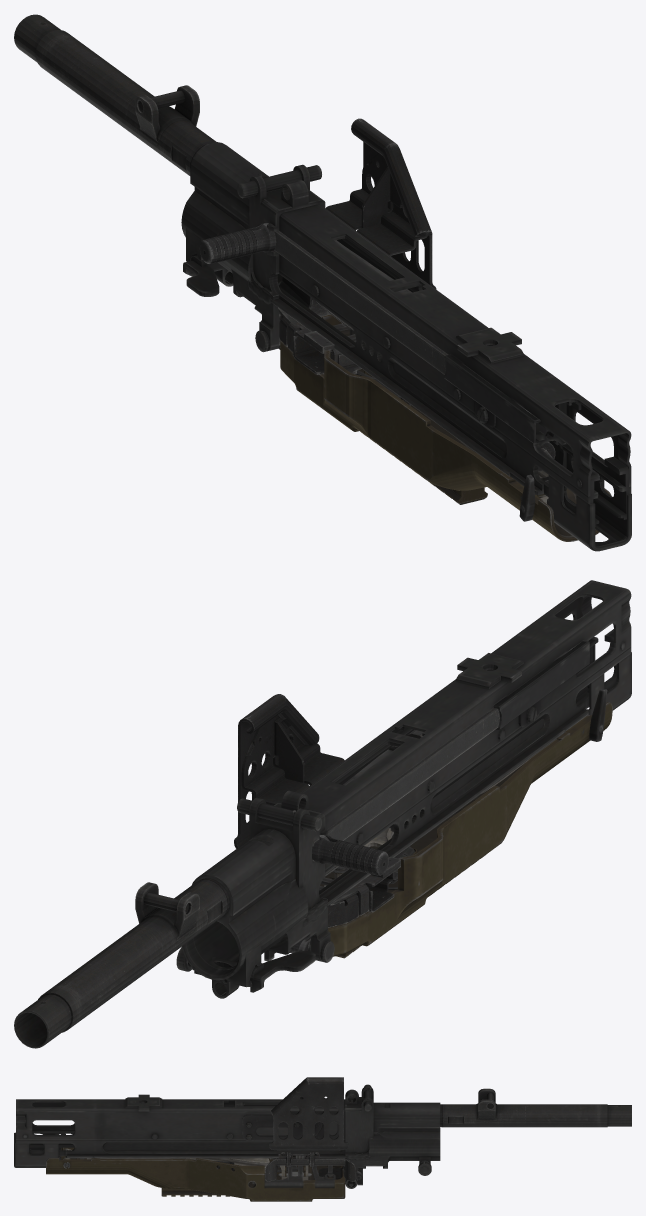
3 renders of one model, top to bottom at view 1: azimuth 30°, elevation 25°; view 2: azimuth 150°, elevation 25°; view 3: azimuth 270°, elevation 25°, orthographic. The views are drawn at different scales.
Parts seen in each view (by area): view 1: TW_661cec09b2c6356b4d0c7a36_PZ_Import; view 2: TW_661cec09b2c6356b4d0c7a36_PZ_Import; view 3: TW_661cec09b2c6356b4d0c7a36_PZ_Import.
Part boxes in pixels (box(x1,y1,x2,y2)): TW_661cec09b2c6356b4d0c7a36_PZ_Import: box(14, 14, 631, 551); TW_661cec09b2c6356b4d0c7a36_PZ_Import: box(14, 580, 631, 1048); TW_661cec09b2c6356b4d0c7a36_PZ_Import: box(14, 1077, 631, 1201).
Size of the model in its own units: 0.0632 by 0.3955 by 0.0922.
Materials: 1 (1 with a texture image).
